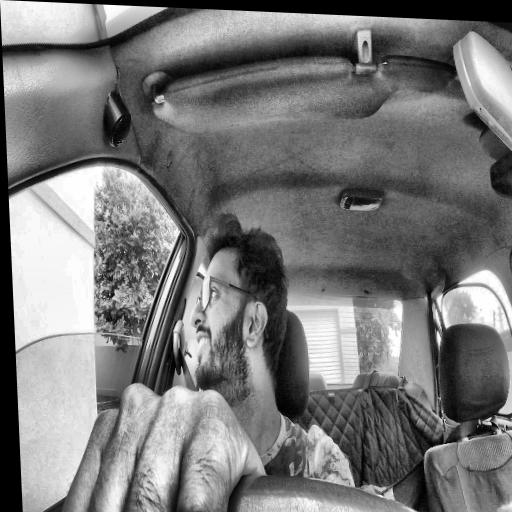awake: (185, 215, 294, 419)
